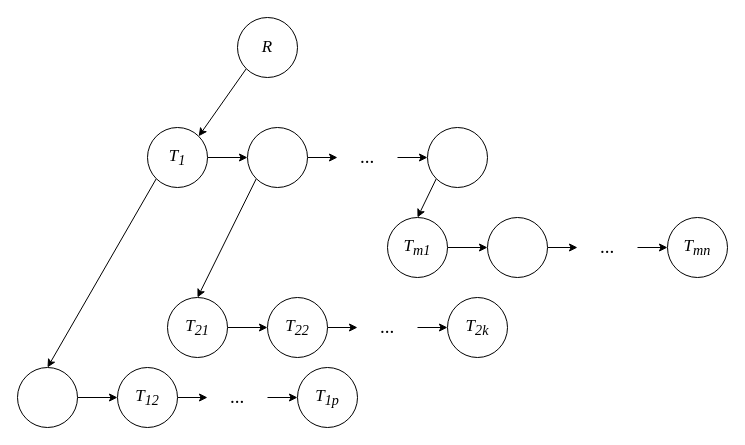
The diagram is 745 pixels wide and 445 high, and some of its shapes have lost their labels. The shapes that lost their labels are listed below. From the top down, each one's box as (x1, y1, x2, y2) in pixels, then its label:
(246, 126, 308, 188): T 2
(426, 126, 488, 188): T m
(486, 216, 548, 278): T m2
(16, 366, 78, 428): T 11
